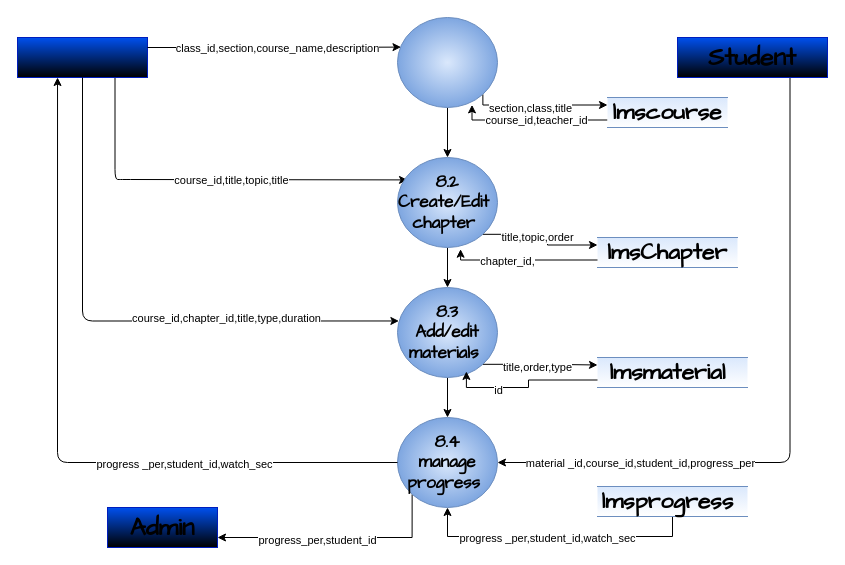
Some shapes in this 845 by 565 pixel diagram are drawn without their labels. Each missing label, with the centre of its shape:
8.1 Create/Edit Course: the point at 447,62
Tecaher: the point at 82,57
